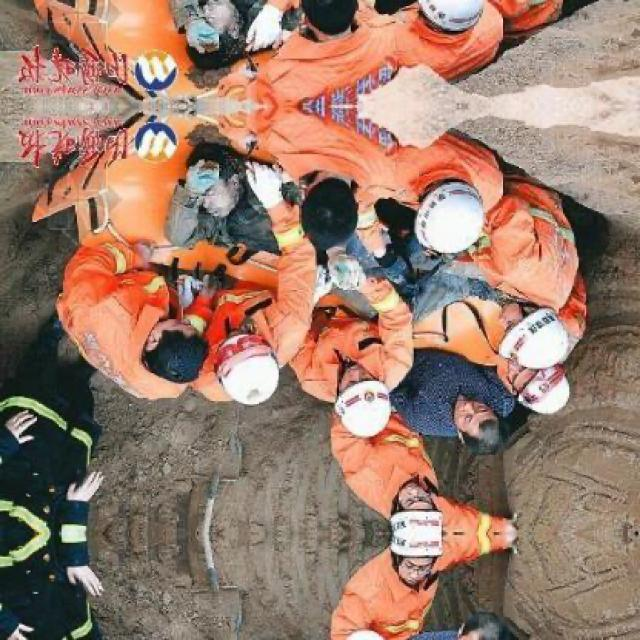con casco: (219, 334, 309, 421), (418, 168, 503, 256), (314, 374, 411, 441), (492, 314, 578, 372), (504, 357, 576, 410)
sin casco: (280, 150, 412, 277), (448, 420, 518, 462)
